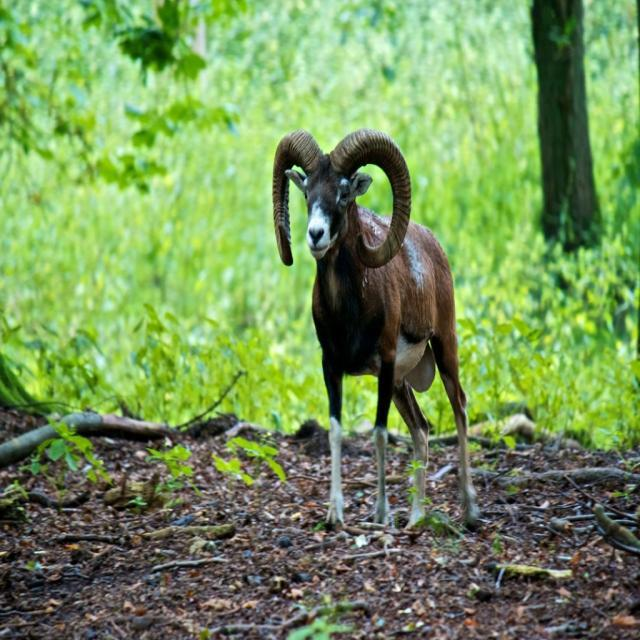Goat: (271, 126, 481, 534)
